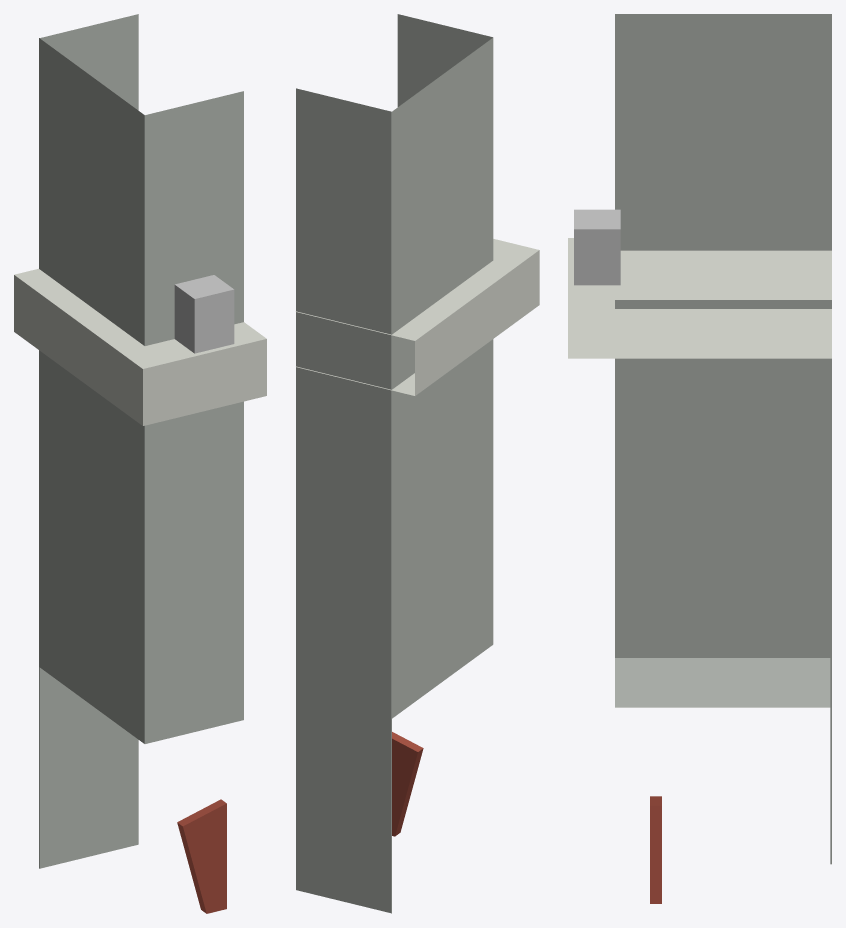
File: cell_20.obj
3 renders of one model, left to right at view 1: azimuth 30°, elevation 25°; view 2: azimuth 150°, elevation 25°; view 3: azimuth 270°, elevation 25°, orthographic. The views are drawn at different scales.
Size of the model in its own units: 0.1562 by 1 by 0.2812.
